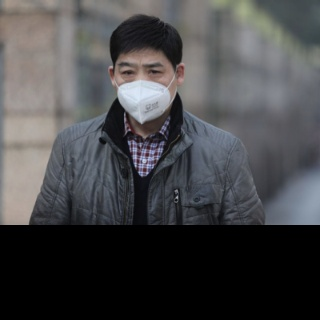with_mask: (114, 60, 177, 124)
